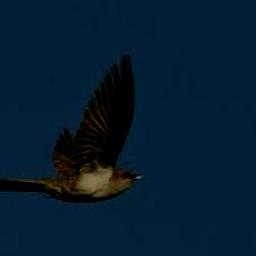Cuckoo: (0, 53, 143, 201)
